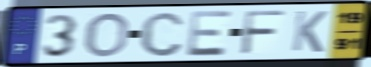3: (41, 13, 81, 58)
C: (138, 10, 186, 59)
E: (185, 9, 235, 58)
F: (238, 9, 288, 56)
K: (289, 9, 329, 54)
O: (82, 11, 131, 59)
